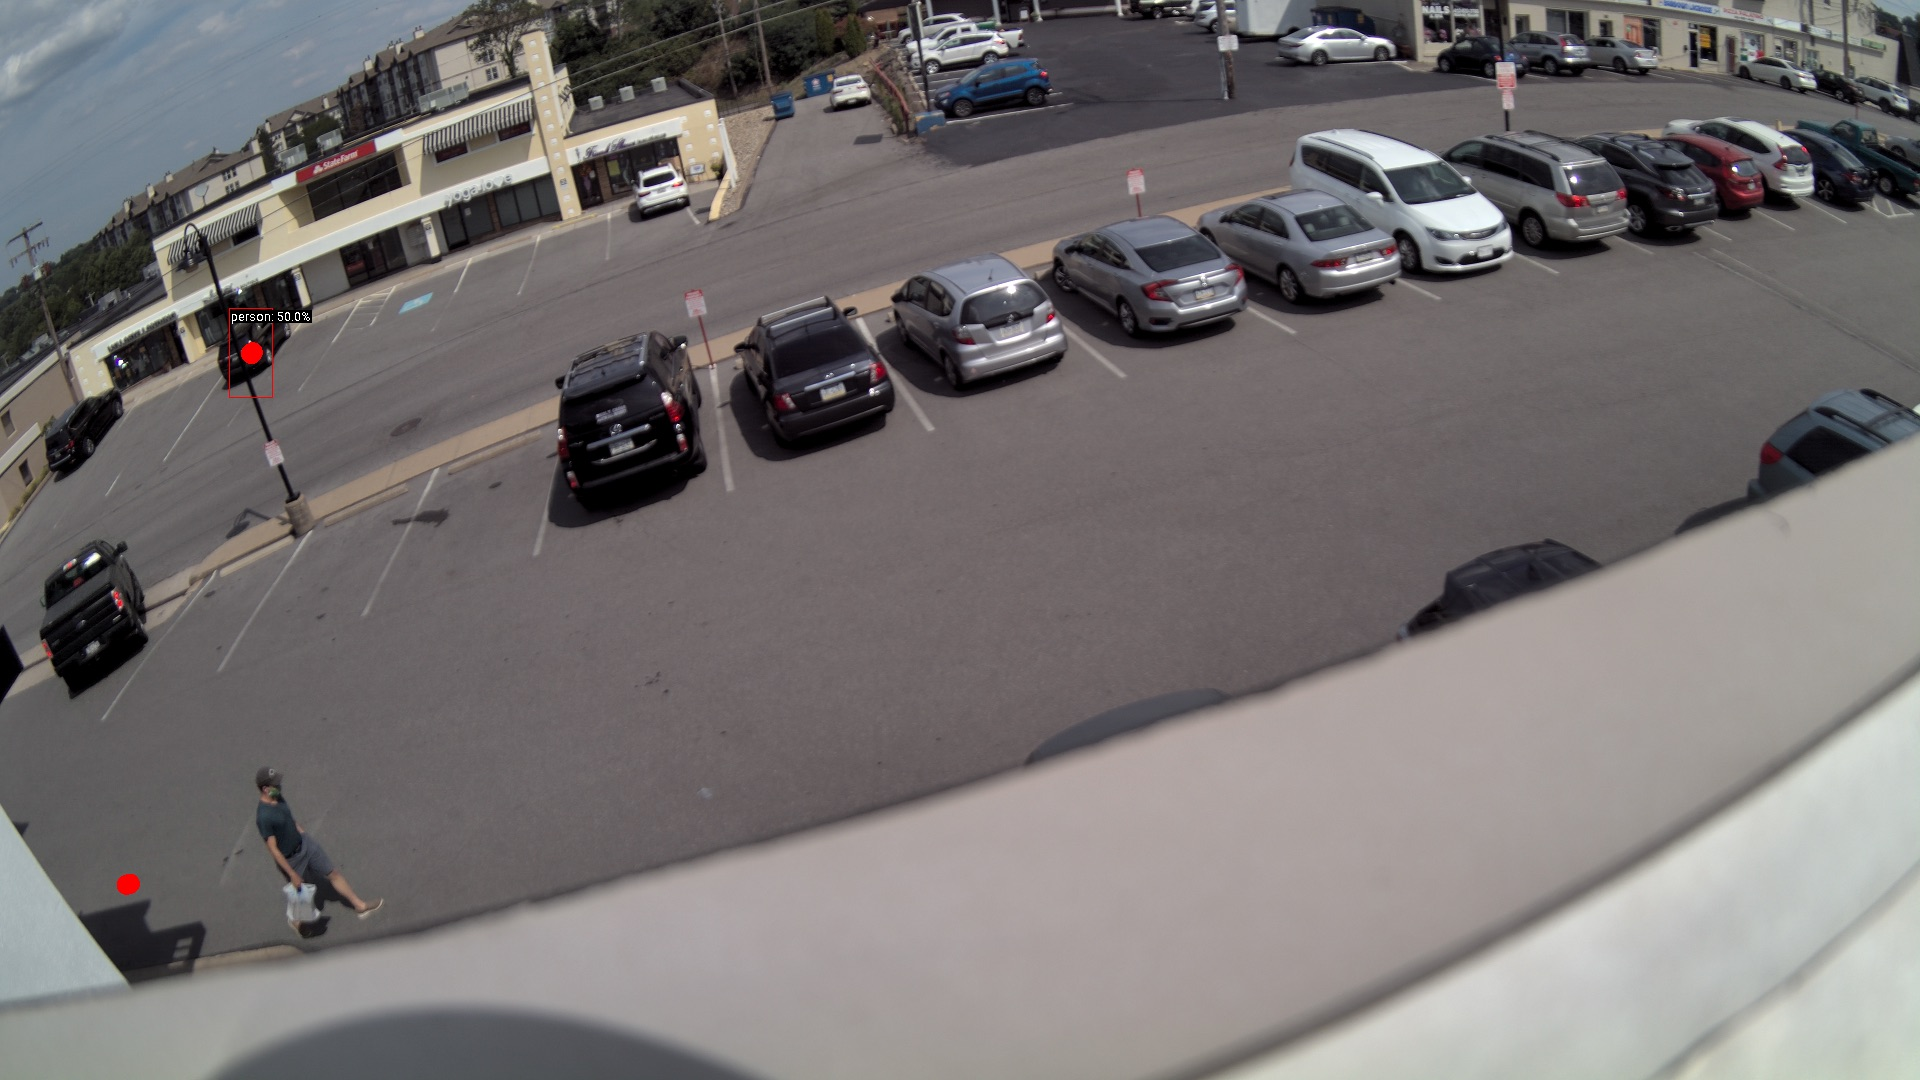person: (251, 766, 384, 938)
